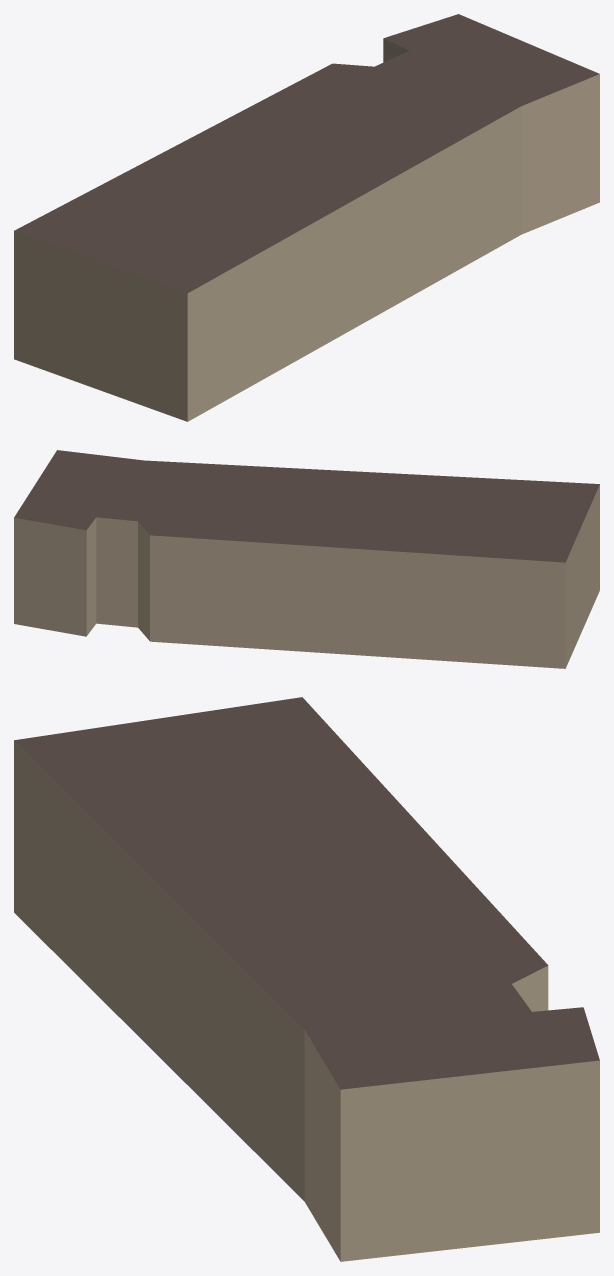
The picture shows the model from 3 angles, top to bottom: view 1: azimuth 30°, elevation 25°; view 2: azimuth 150°, elevation 25°; view 3: azimuth 270°, elevation 25°; orthographic projection. The views are drawn at different scales.
Visible parts, largest first — view 1: HP-w1515076981; view 2: HP-w1515076981; view 3: HP-w1515076981.
Part boxes in pixels (x1,y1,x2,y2): HP-w1515076981: [14, 14, 599, 421]; HP-w1515076981: [14, 450, 599, 668]; HP-w1515076981: [14, 697, 599, 1261].
Bounding box in the file's own units: 43.99 × 9 × 27.75.
